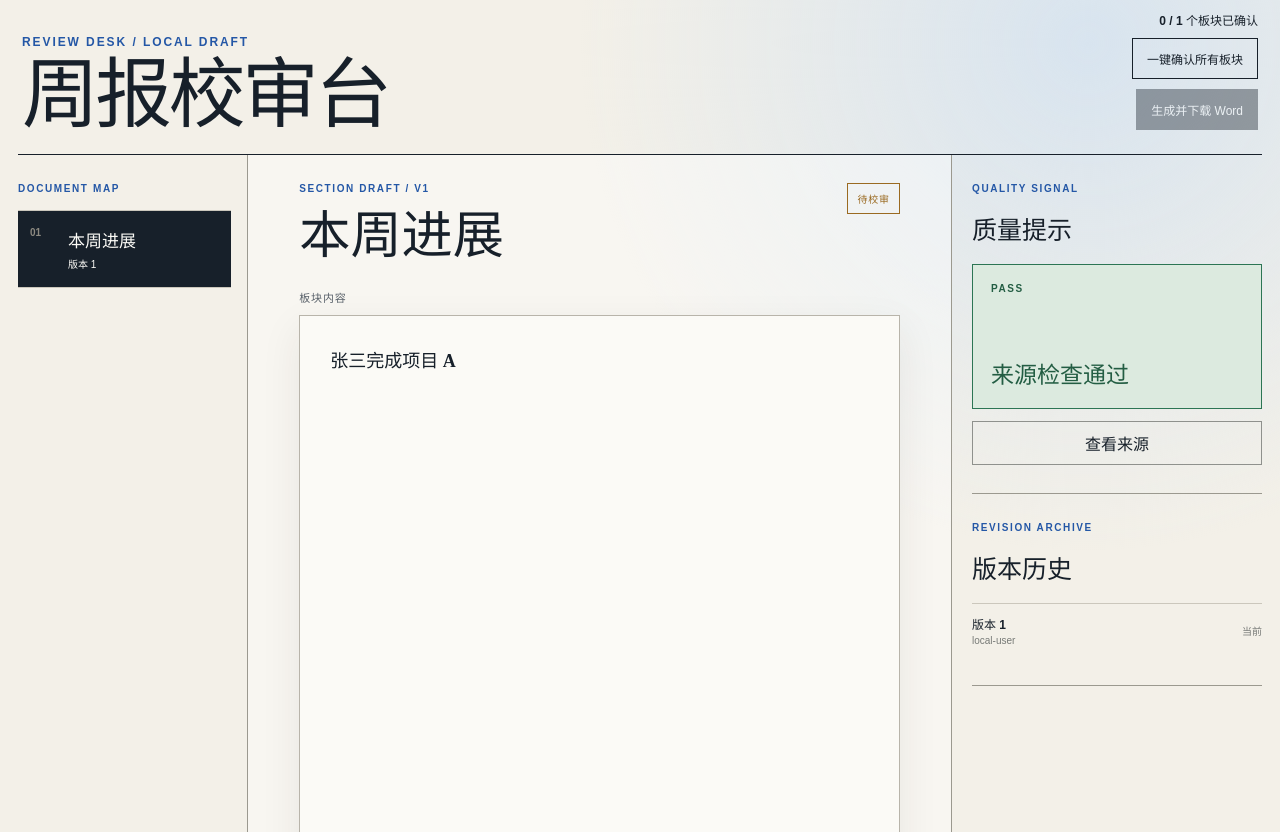
Test: ReviewPage › edits a section and shows its source excerpt
The image size is (1280, 832).
Click the button "01 本周进展 版本 1" at [124, 249], box [18,210,231,288]
(page scrolled)
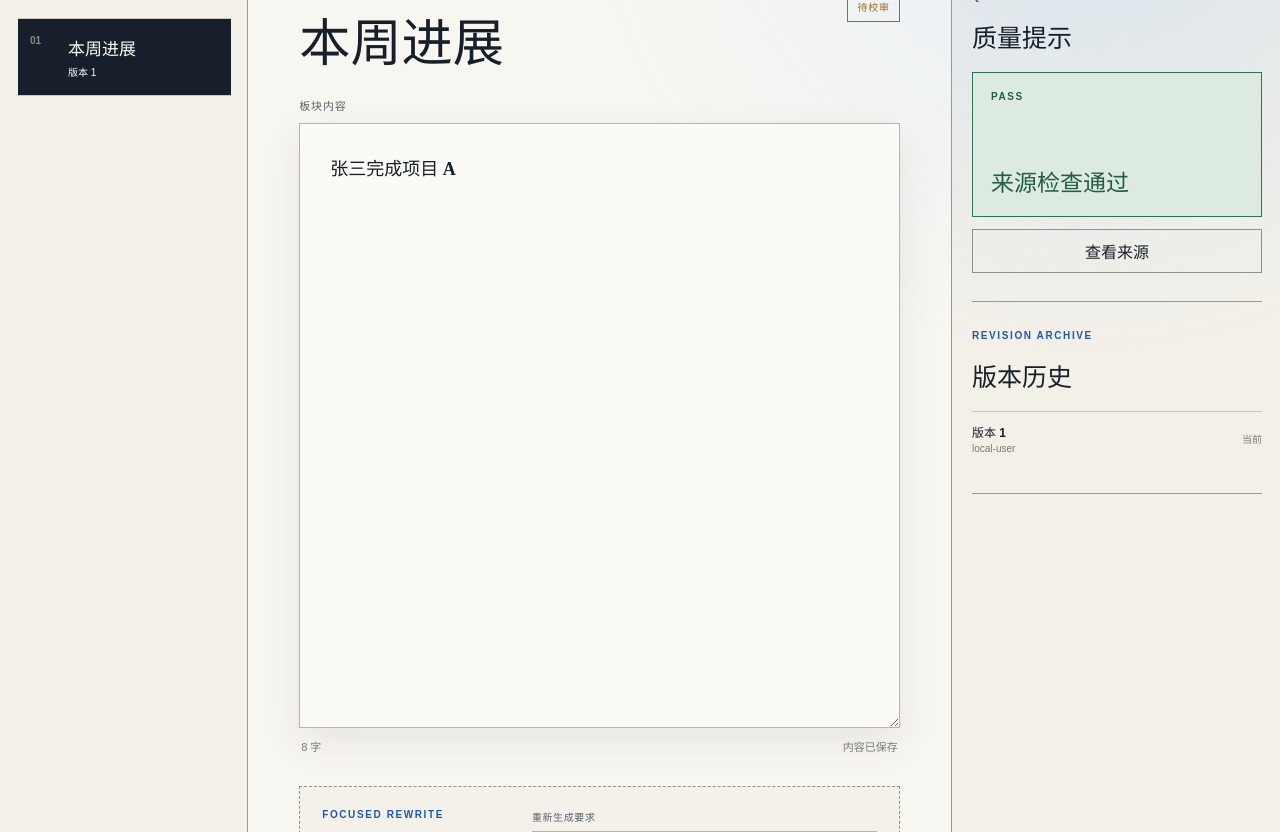
Replace the text in the text box labelled "板块内容" with "人工调整内容" at [600, 426], box [299,123,900,728]
(page scrolled)
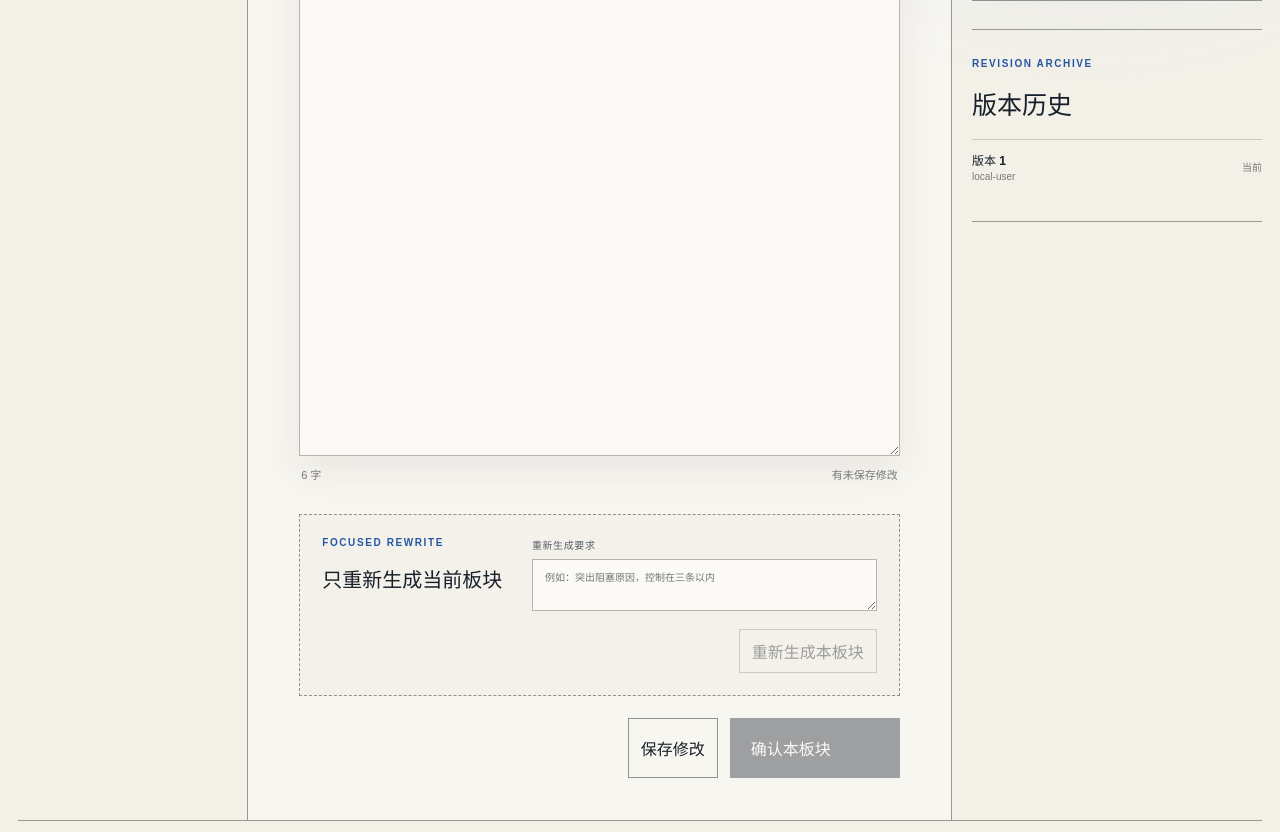
Click the button "保存修改" at [673, 748], box [628,718,718,778]
(page scrolled)
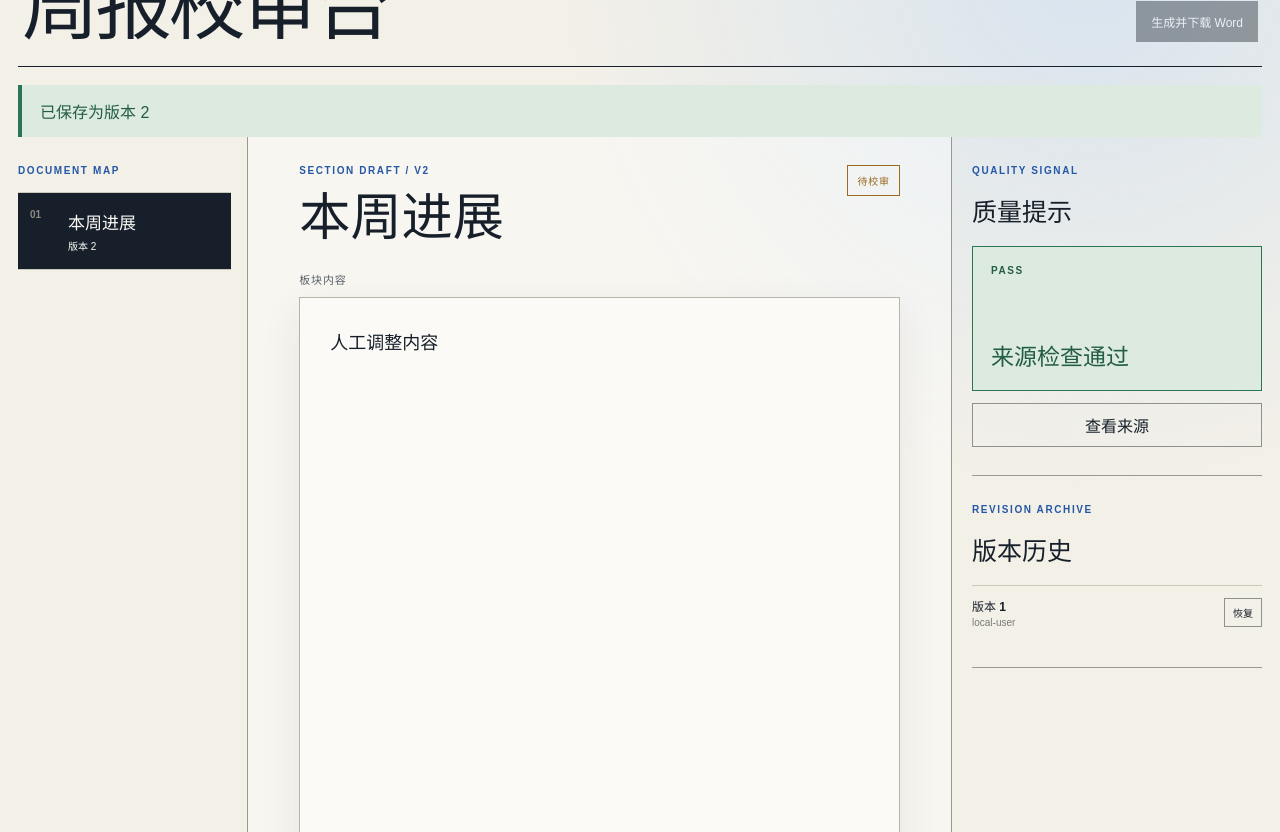
Expected: the text "已保存为版本 2" is shown, [18,85,1262,137]
Click the button "查看来源" at [1117, 425], box [972,403,1262,447]
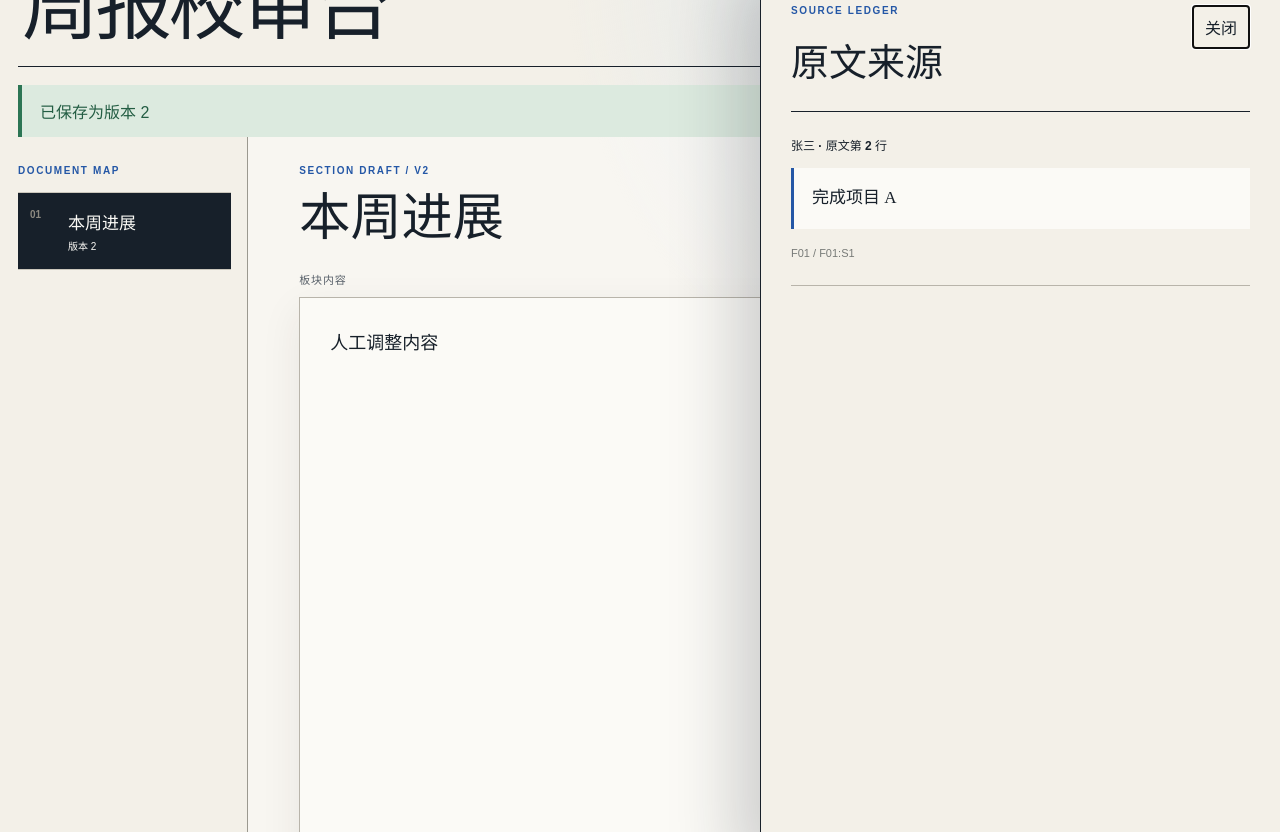
Expected: the text "张三 · 原文第 2 行" is shown, [791,139,887,153]
Expected: the text "完成项目 A" is shown, [791,168,1250,229]
